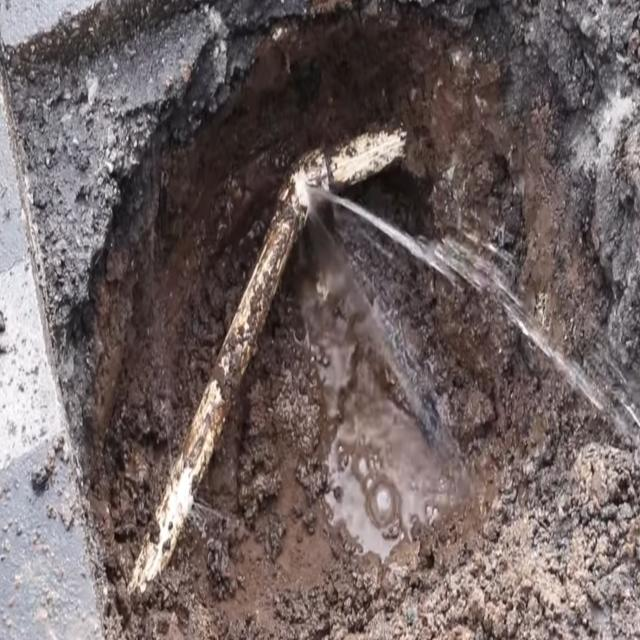leak: (309, 187, 630, 433)
